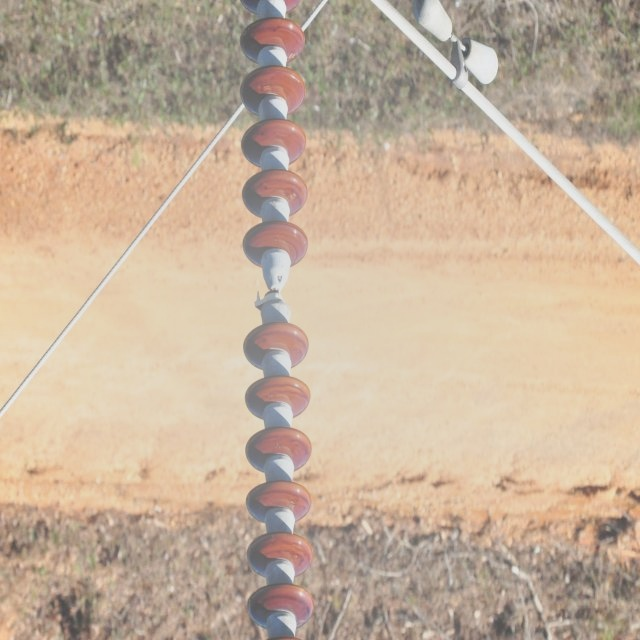broken: (254, 288, 284, 302)
insulator: (238, 0, 316, 627)
